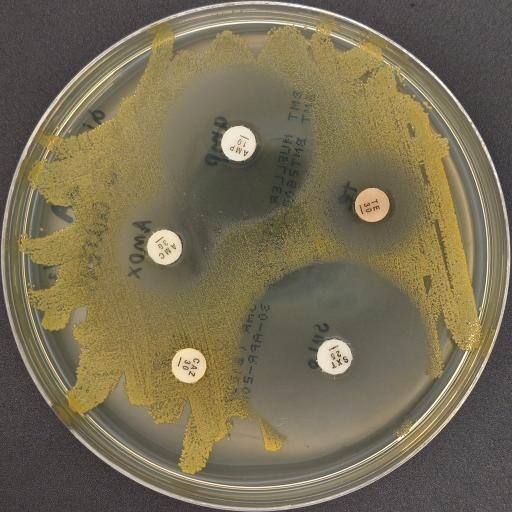disc: (219, 125, 257, 161), (170, 347, 208, 383), (146, 229, 182, 265), (316, 338, 352, 374), (354, 187, 390, 222)
